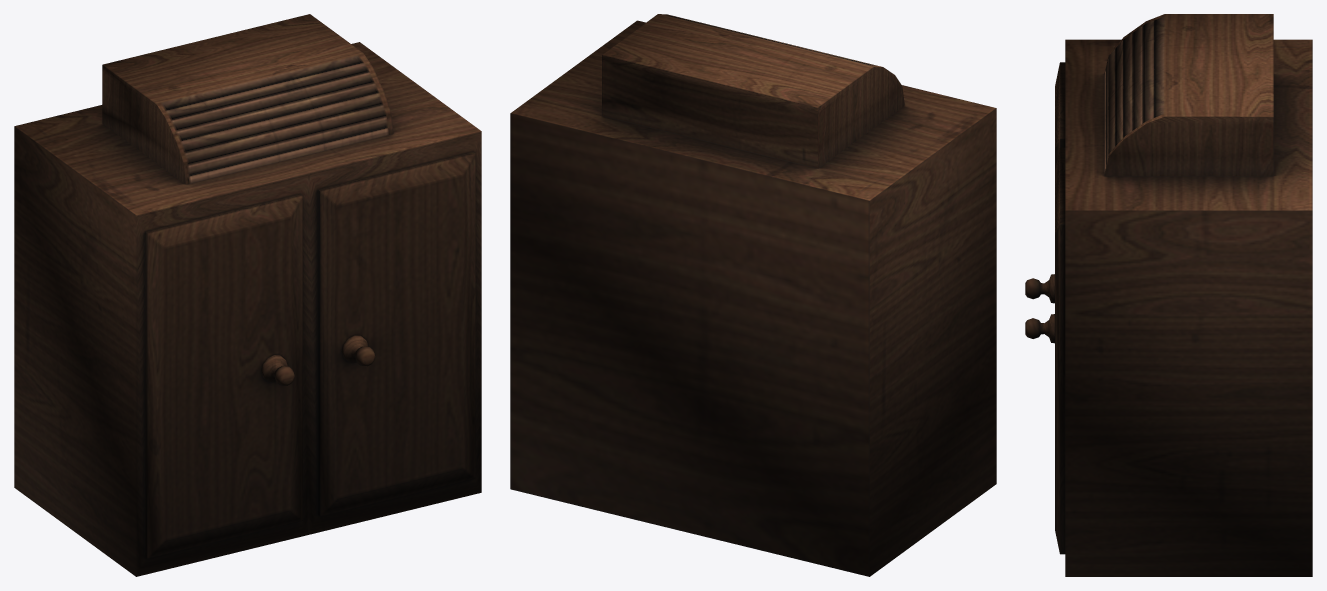
The model's file is DressingTable.fbx.
3 views of the same model, side by side, from view 1: azimuth 30°, elevation 25°; view 2: azimuth 150°, elevation 25°; view 3: azimuth 270°, elevation 25° (orthographic). The views are drawn at different scales.
Parts seen in each view (by area): view 1: Cube; view 2: Cube; view 3: Cube.
Boxes of the visible parts, box(x1,y1,x2,y2) form: Cube: box(14, 14, 481, 576); Cube: box(510, 14, 996, 576); Cube: box(1025, 14, 1312, 576).
Bounding box in the file's own units: 1.45 × 1.69 × 1.03.
